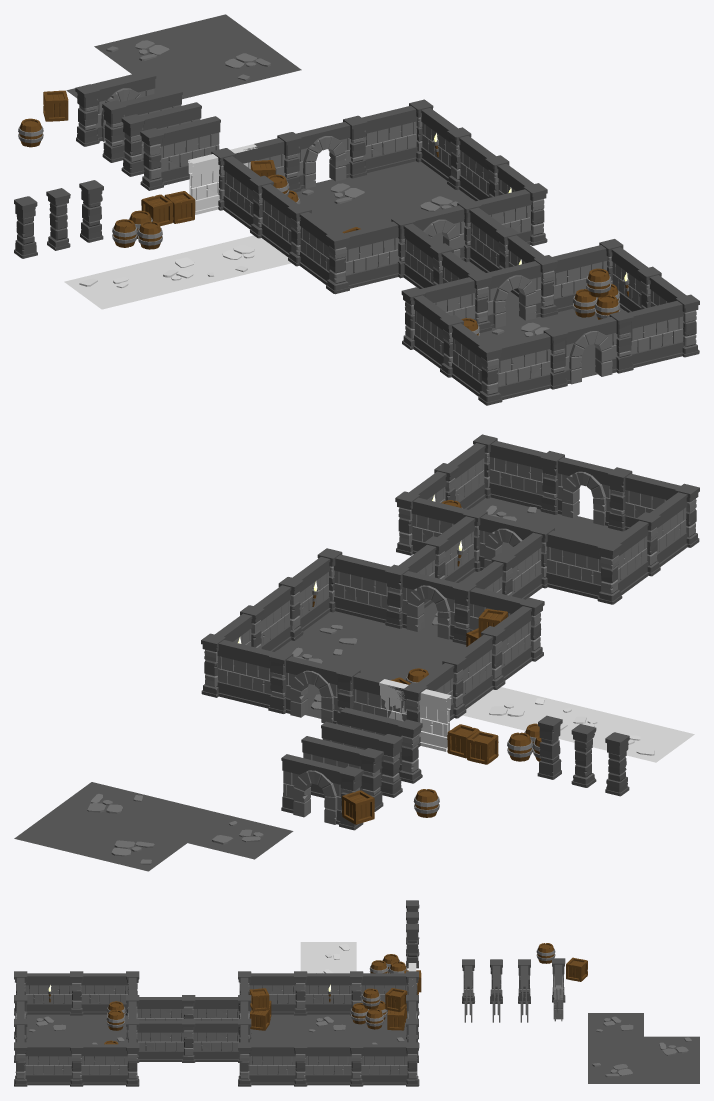
Rendered from modulardungeonbs.fbx.
3 views of the same model, one above another, from view 1: azimuth 30°, elevation 25°; view 2: azimuth 150°, elevation 25°; view 3: azimuth 270°, elevation 25° (orthographic). The views are drawn at different scales.
Visible parts, largest first — view 1: Cube.029, Cube.007, Cube.003, Cube.028, Cube.047, Cube.013, Cube.006, Cube.043, Cube.014, Cube.024, Cube.022, Cube.011 (+41 smaller); view 2: Cube.045, Cube.007, Cube.024, Cube.012, Cube.047, Cube.028, Cube.011, Cube.006, Cube.029, Plane.022, Plane.021, Plane.023 (+39 smaller); view 3: Cube.025, Cube.008, Cube.010, Cube.009, Cube.026, Cube.015, Cube.018, Cube.044, Cube.019, Cube.043, Cube.014, Plane.022 (+41 smaller).
Part boxes in pixels (left/top/right/bottom): Cube.029: left=496, top=326, right=568, bottom=400; Cube.007: left=343, top=105, right=417, bottom=178; Cube.003: left=140, top=116, right=220, bottom=190; Cube.028: left=628, top=294, right=699, bottom=367; Cube.047: left=562, top=310, right=633, bottom=384; Cube.013: left=344, top=215, right=415, bottom=288; Cube.006: left=277, top=122, right=351, bottom=192; Cube.043: left=451, top=323, right=502, bottom=405; Cube.014: left=299, top=212, right=349, bottom=294; Cube.024: left=75, top=72, right=156, bottom=146; Cube.022: left=486, top=261, right=542, bottom=328; Cube.011: left=476, top=183, right=547, bottom=245; Cube.045: left=546, top=530, right=622, bottom=604; Cube.007: left=217, top=640, right=293, bottom=713; Cube.024: left=281, top=754, right=363, bottom=830; Cube.012: left=385, top=564, right=457, bottom=639; Cube.047: left=540, top=451, right=613, bottom=525; Cube.028: left=473, top=434, right=545, bottom=509; Cube.011: left=317, top=548, right=390, bottom=623; Cube.006: left=285, top=656, right=360, bottom=725; Cube.029: left=607, top=467, right=680, bottom=531; Plane.022: left=120, top=798, right=225, bottom=842; Plane.021: left=188, top=814, right=293, bottom=859; Plane.023: left=81, top=826, right=186, bottom=871; Cube.025: left=81, top=1042, right=139, bottom=1086; Cube.008: left=361, top=1042, right=419, bottom=1086; Cube.010: left=249, top=1042, right=307, bottom=1086; Cube.009: left=305, top=1042, right=363, bottom=1086; Cube.026: left=25, top=1042, right=83, bottom=1086; Cube.015: left=294, top=971, right=351, bottom=1015; Cube.018: left=182, top=1018, right=239, bottom=1062; Cube.044: left=70, top=971, right=127, bottom=1015; Cube.019: left=126, top=1018, right=183, bottom=1062; Cube.043: left=14, top=971, right=71, bottom=1015; Cube.014: left=238, top=971, right=295, bottom=1014; Plane.022: left=588, top=1036, right=643, bottom=1060.
Bounding box in the file's own units: 2495 × 317 × 4902.
